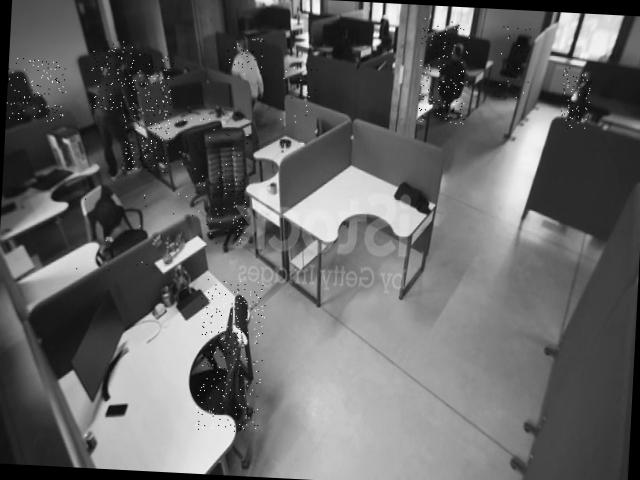empty chair: (195, 279, 267, 433), (74, 181, 154, 279), (172, 116, 220, 227), (209, 133, 251, 246), (496, 24, 534, 109), (280, 60, 320, 126), (560, 68, 591, 131)
occupiedchair: (120, 53, 174, 173), (418, 19, 470, 125), (6, 58, 68, 122)
